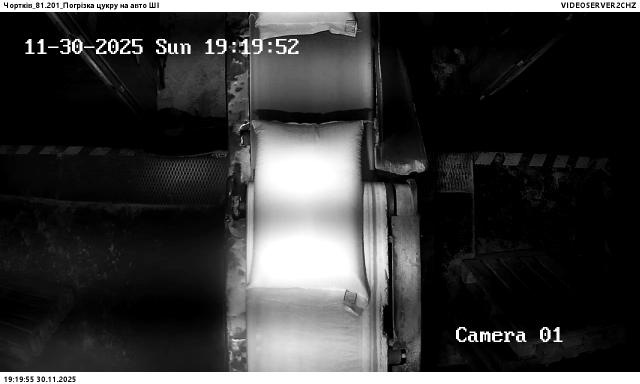bag: (246, 120, 371, 306), (258, 12, 362, 38)
